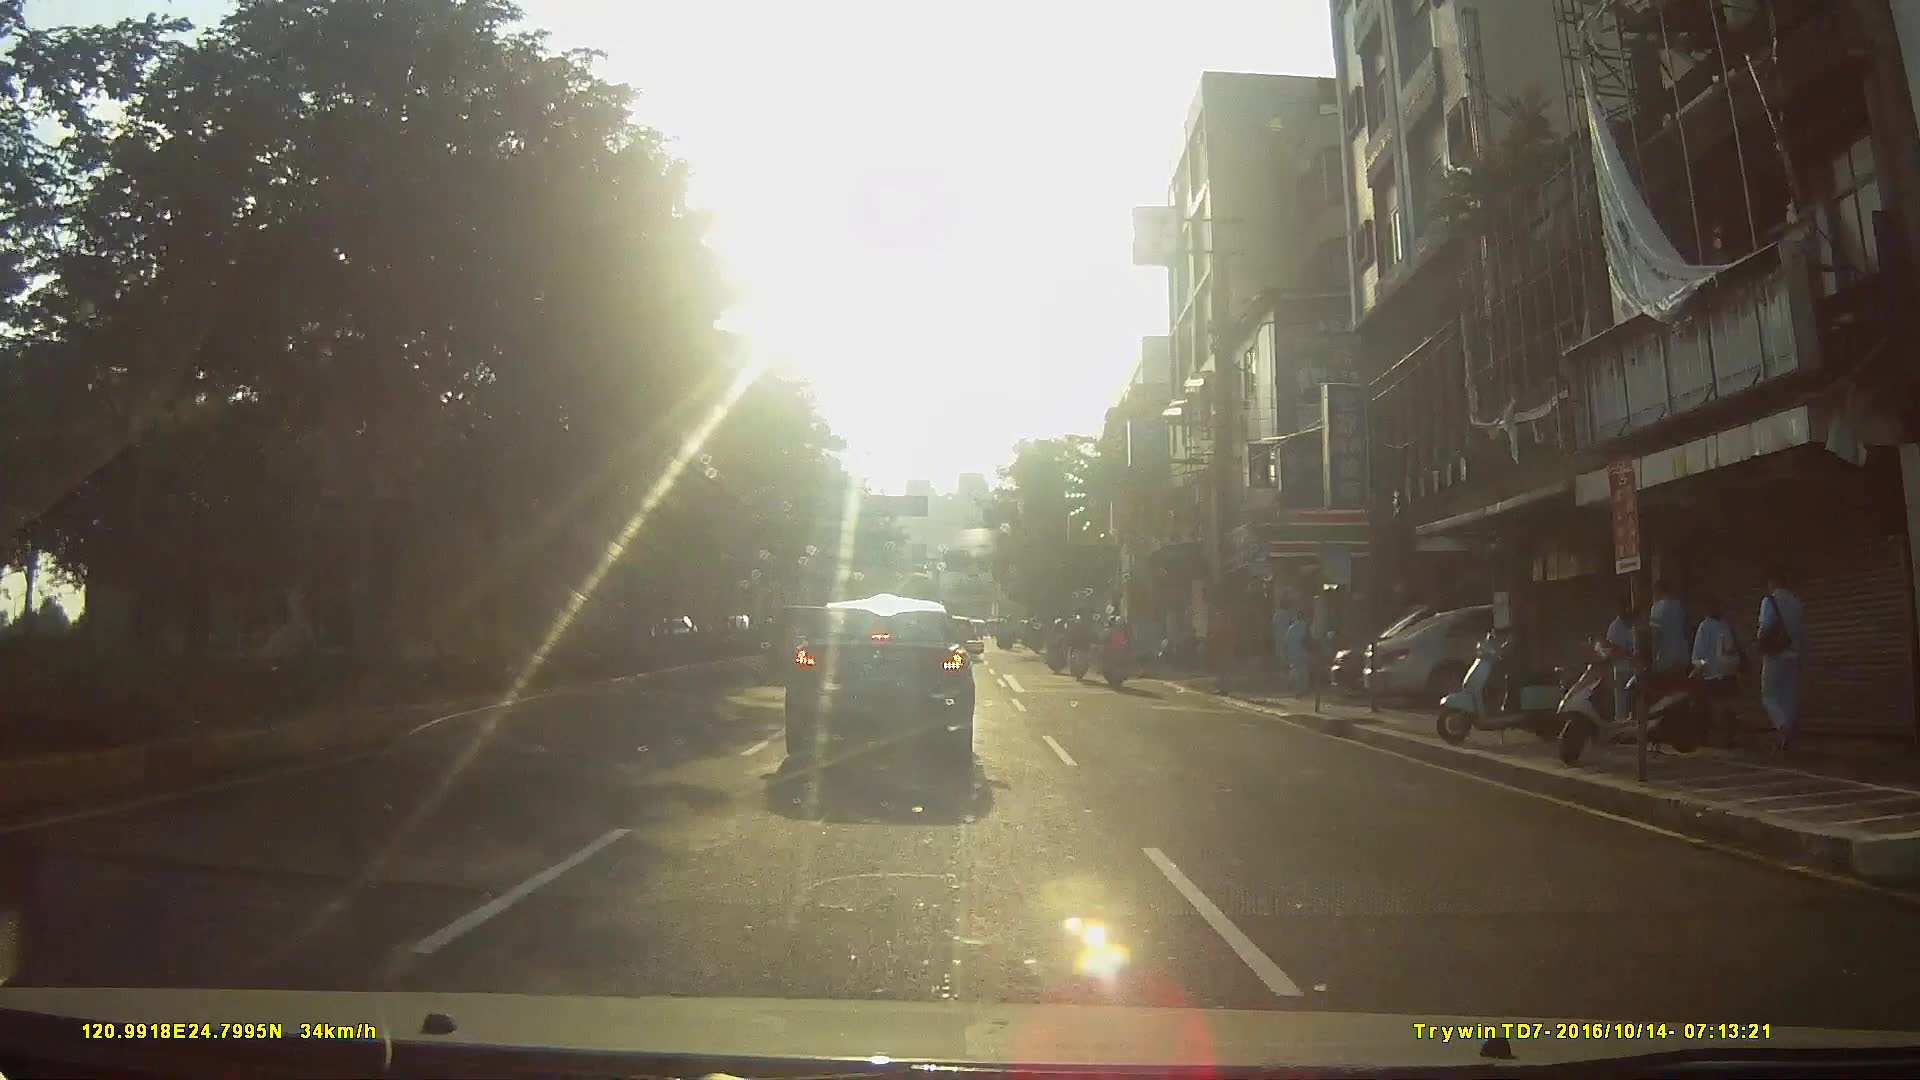pedestrian: (1753, 565, 1810, 757), (1644, 568, 1694, 726), (1594, 579, 1646, 724), (1692, 596, 1738, 730), (1278, 605, 1321, 702)
rider: (1100, 615, 1137, 695), (1064, 612, 1092, 687), (1043, 620, 1070, 679)
vehicle: (767, 588, 995, 783), (1358, 597, 1683, 715)
